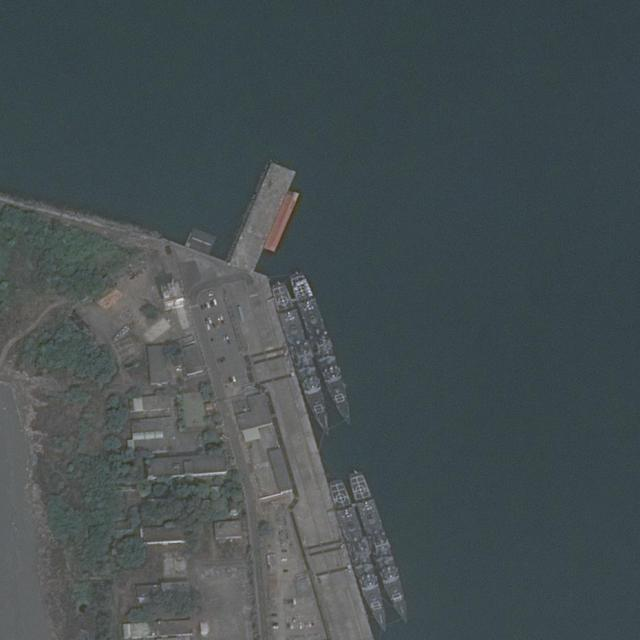Dock: (228, 159, 295, 270)
Frigate: (266, 276, 339, 437), (288, 268, 357, 431), (328, 476, 394, 636), (346, 469, 412, 628)
